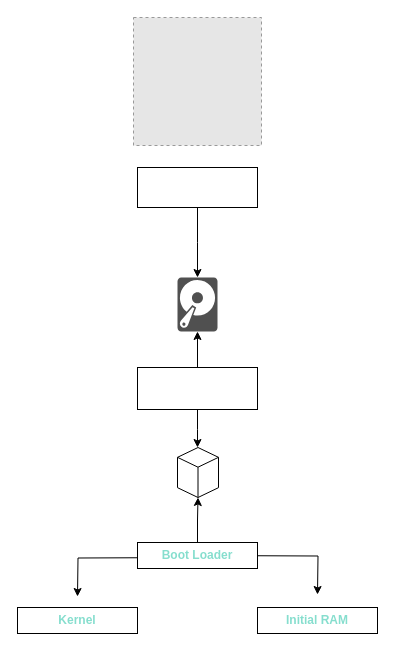
This 395x651 diagram has some shape labels left out. Grey dashed boxes stand in for pictures. The shapes that lost their labels are listed below. From the top down, each one's box as (x1, y1, x2, y2) in pixels, then its label:
(136, 166, 258, 208): System
(136, 366, 258, 410): Bootable Hard Disk
